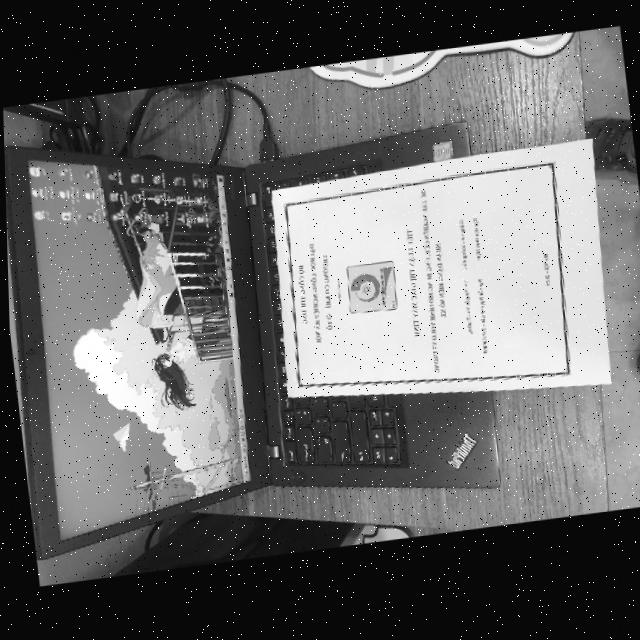document: (272, 139, 610, 397)
